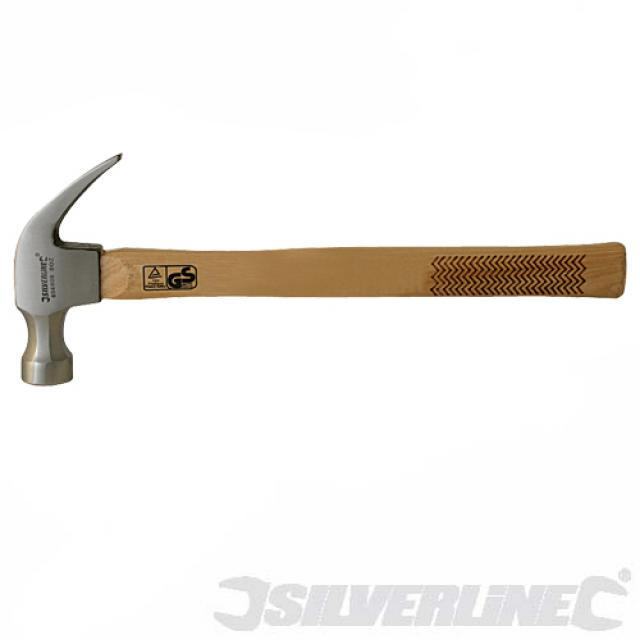hammer: (0, 148, 633, 416)
